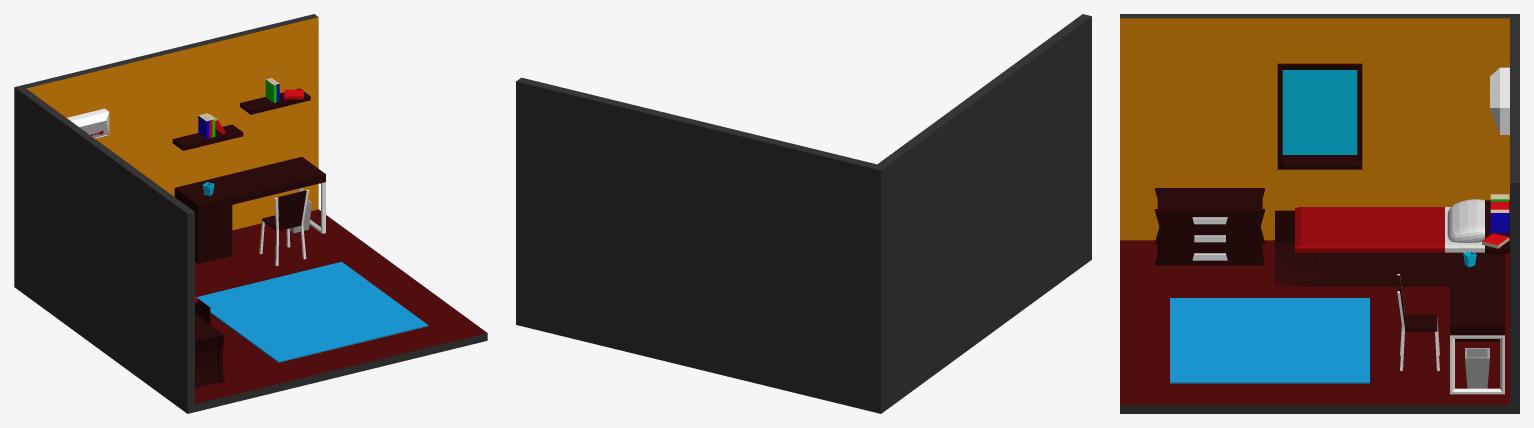
The model's file is komnataRedused.fbx.
The picture shows the model from 3 angles, left to right: view 1: azimuth 30°, elevation 25°; view 2: azimuth 150°, elevation 25°; view 3: azimuth 270°, elevation 25°; orthographic projection. The views are drawn at different scales.
Parts seen in each view (by area): view 1: Cube; view 2: Cube; view 3: Cube, Куб.
Part boxes in pixels (left/top/right/bottom): Cube: left=14, top=14, right=487, bottom=413; Cube: left=516, top=14, right=1091, bottom=413; Cube: left=1120, top=14, right=1519, bottom=413; Куб: left=1447, top=199, right=1484, bottom=242.
Bounding box in the file's own units: 800 × 510 × 800.
